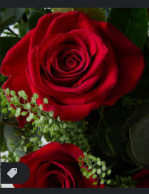RedRose: (1, 8, 148, 115), (11, 133, 108, 188)
